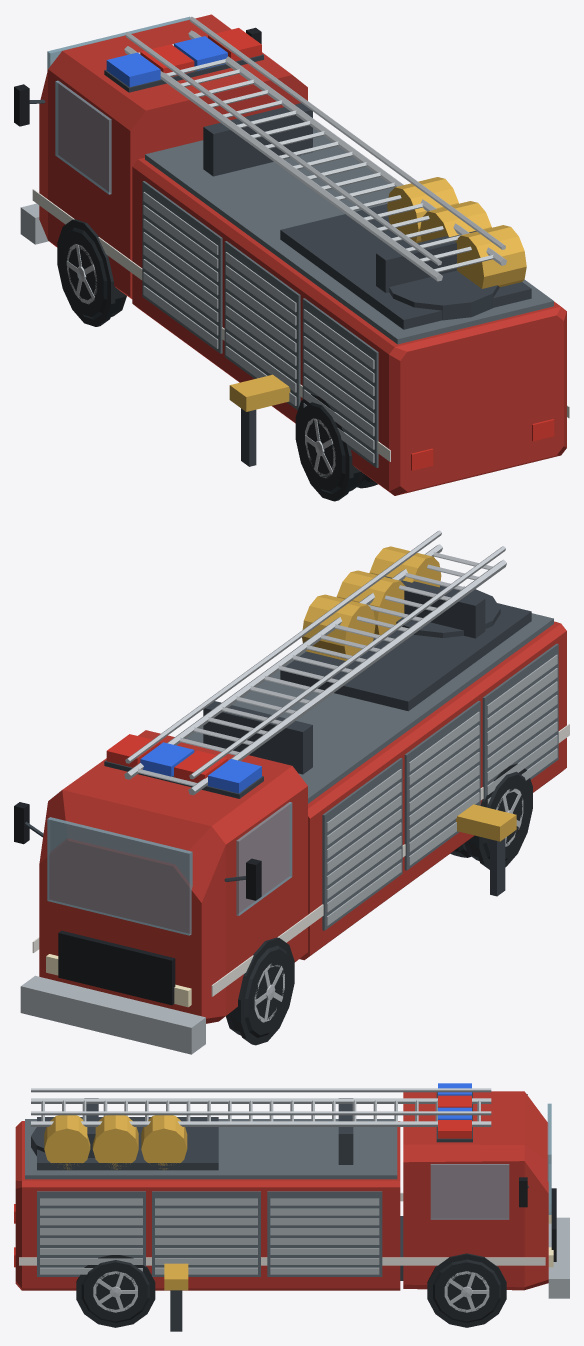
The model's file is LAND_04.obj.
The picture shows the model from 3 angles, top to bottom: view 1: azimuth 30°, elevation 25°; view 2: azimuth 150°, elevation 25°; view 3: azimuth 270°, elevation 25°; orthographic projection. The views are drawn at different scales.
Parts seen in each view (by area): view 1: body, compartments, cab, body_top, ladder, hose_bed, ladder_rests, windows, lightbar, wheel_R_L, wheel_F_L, turntable (+7 smaller); view 2: cab, compartments, windows, hose_bed, ladder, body, body_top, bumper, ladder_rests, grille, lightbar, wheel_F_L (+7 smaller); view 3: compartments, cab, body, body_top, ladder, hose_bed, windows, wheel_F_R, wheel_R_R, lightbar, bumper, stripe (+6 smaller).
Boxes of the visible parts, x1,y1,x2,y2 form: body: (132,157,566,495); compartments: (142,181,378,467); cab: (39,14,307,298); body_top: (145,128,553,344); ladder: (124,16,506,281); hose_bed: (280,177,531,329); ladder_rests: (203,103,476,292); windows: (47,16,190,194); lightbar: (104,28,263,92); wheel_R_L: (298,402,377,493); wheel_F_L: (60,227,126,319); turntable: (389,270,499,320); cab: (39,730,307,1023); compartments: (322,643,558,930); windows: (47,802,292,935); hose_bed: (280,546,531,711); ladder: (124,530,506,795); body: (300,621,566,960); body_top: (186,613,553,803); bumper: (20,975,205,1054); ladder_rests: (203,576,485,774); grille: (58,930,175,1005); lightbar: (104,734,263,798); wheel_F_L: (226,945,291,1037); compartments: (37,1191,382,1276); cab: (403,1091,548,1290); body: (15,1121,400,1290); body_top: (25,1119,397,1179); ladder: (31,1088,491,1126); hose_bed: (37,1115,218,1170); windows: (430,1103,551,1219); wheel_F_R: (433,1259,500,1322); wheel_R_R: (81,1260,149,1322); lightbar: (436,1083,472,1142); bumper: (548,1217,569,1298); stripe: (19,1192,545,1265).
Size of the model in its own units: 3.8 by 3.56 by 9.18.
